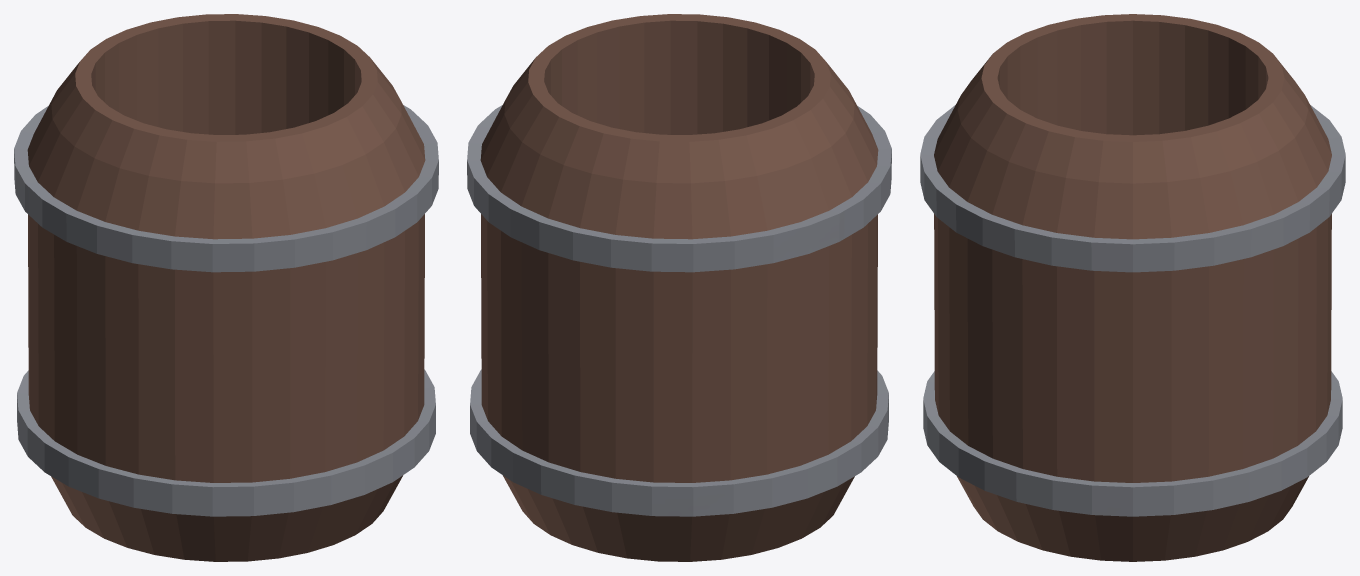
File: barrel.gltf
3 views of the same model, side by side, from view 1: azimuth 30°, elevation 25°; view 2: azimuth 150°, elevation 25°; view 3: azimuth 270°, elevation 25° (orthographic).
Parts seen in each view (by area): view 1: Cylinder.002; view 2: Cylinder.002; view 3: Cylinder.002.
Part boxes in pixels (x1,y1,x2,y2): Cylinder.002: (14,14,438,561); Cylinder.002: (467,14,891,561); Cylinder.002: (920,14,1345,561).
Size of the model in its own units: 1.72 by 1.85 by 1.72.
1 material, 1 textured.
